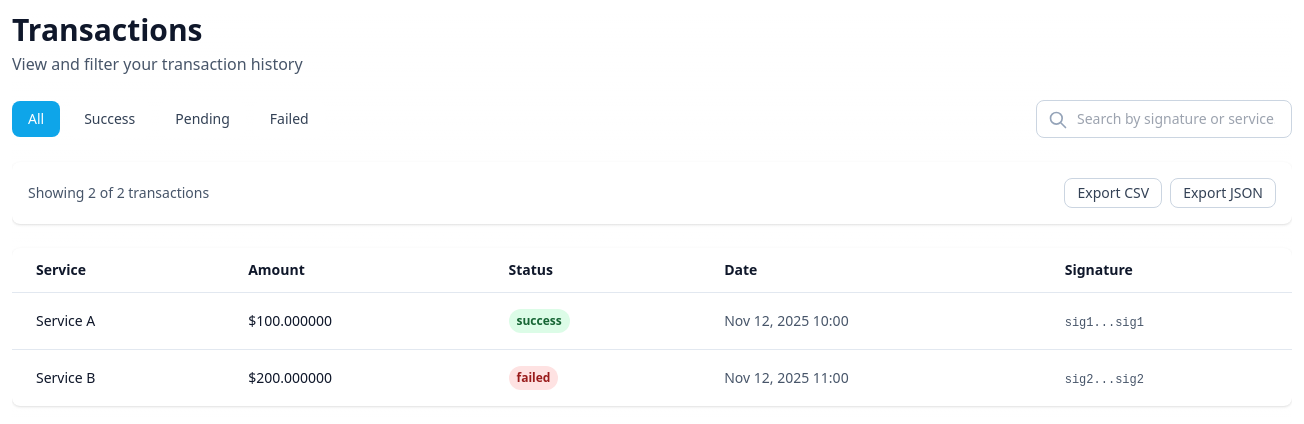
Scenario: TransactionsPage › should filter transactions by status
The image size is (1304, 424).
Expected: the text "Service A" is shown, [12, 292, 224, 350]
What coordinates should you click on to do the following:
click the button "Success"
I would click on:
 (110, 119)
Its box is [68, 101, 151, 137].
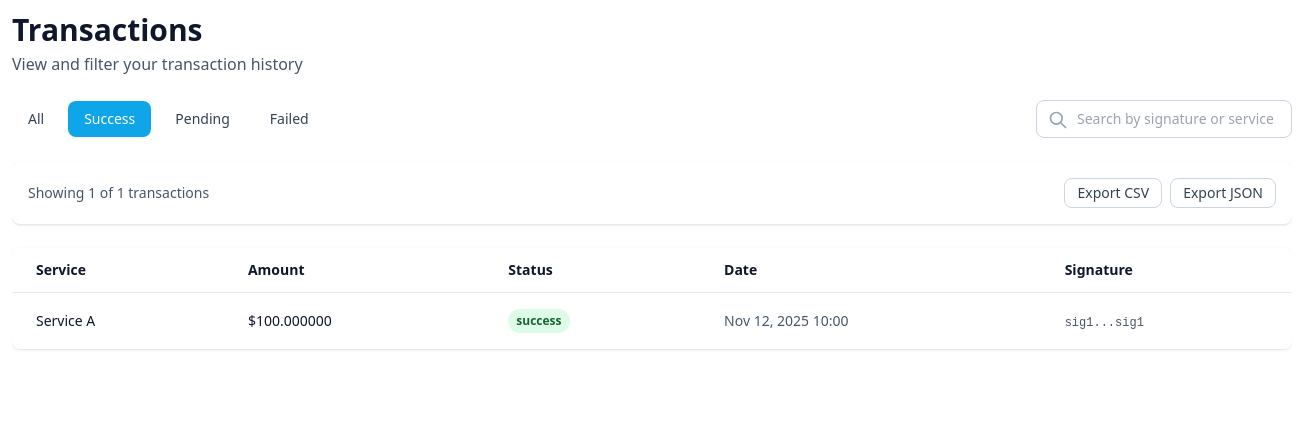
Expected: the text "Service A" is shown, [12, 292, 224, 349]
Now the text "Service B" is gone
